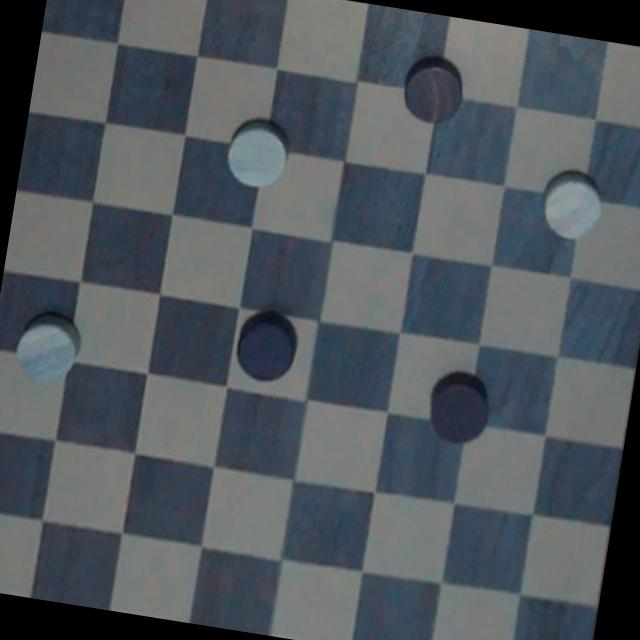BOARD: (0, 0, 640, 640)
black: (218, 300, 306, 392), (420, 366, 504, 461), (395, 46, 473, 130)
white: (0, 298, 96, 403), (216, 106, 306, 202), (534, 164, 614, 246)
